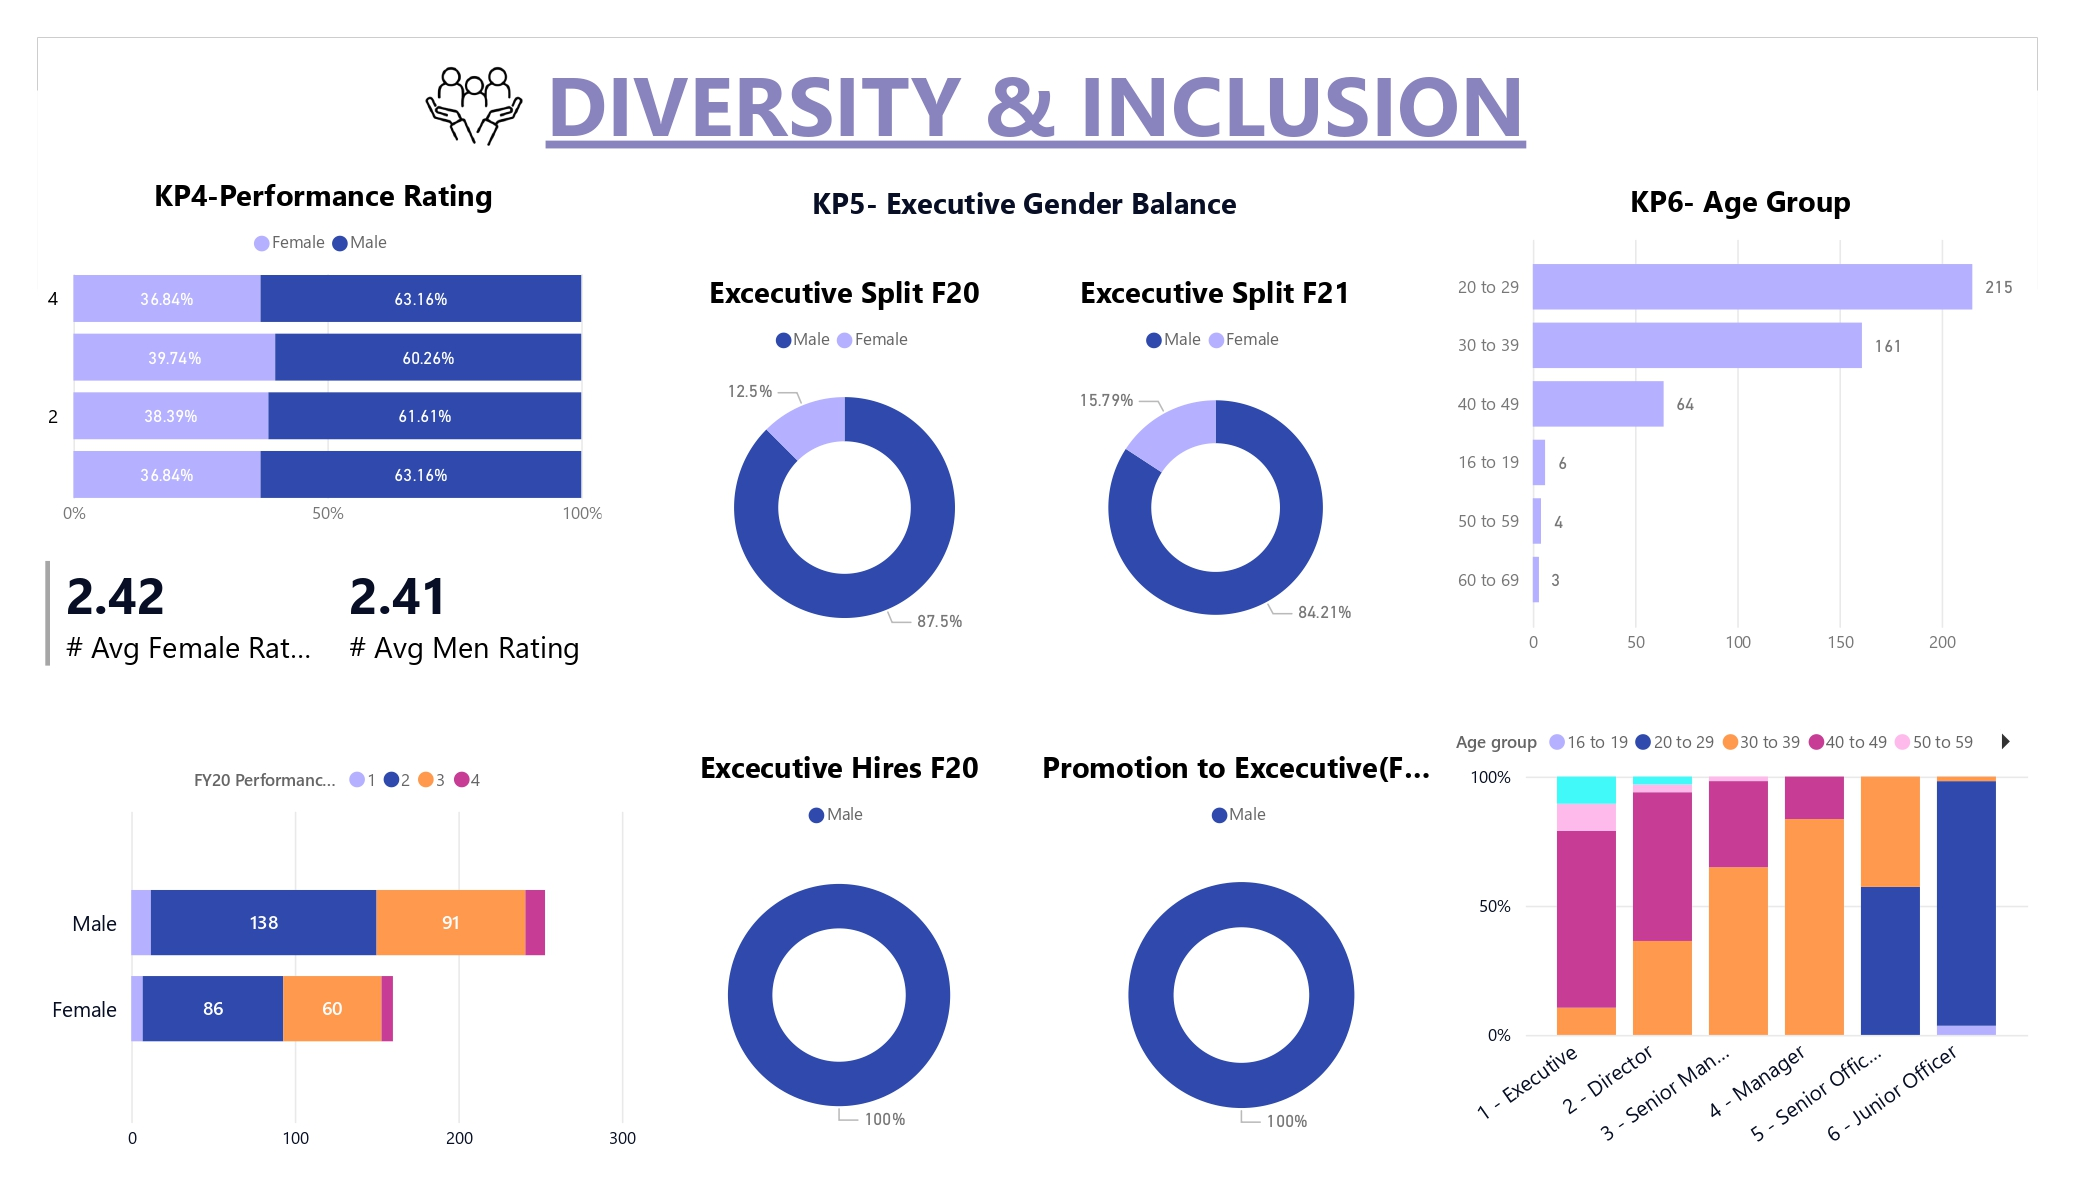

The dashboard page shown, as its layout file describes it:
{"tool":"powerbi","page":{"name":"Page 2","canvas":[1280,720],"ordinal":1},"visuals":[{"type":"hundredPercentStackedBarChart","title":"KP4-Performance Rating","fields":{"Category":["Pharma Group AG.FY20 Performance Rating"],"Y":["CountNonNull(Pharma Group AG.Employee ID)"],"Series":["Pharma Group AG.Gender"]},"box":[0,88.2,365.8,233.5],"z":0},{"type":"barChart","fields":{"Category":["Pharma Group AG.Gender"],"Y":["CountNonNull(Pharma Group AG.Employee ID)"],"Series":["Pharma Group AG.FY20 Performance Rating"]},"box":[0,455.9,387.9,264.7],"z":1000},{"type":"donutChart","title":"Excecutive Split F20","fields":{"Category":["Pharma Group AG.Gender"],"Y":["CountNonNull(Pharma Group AG.Employee ID)"]},"box":[365.4,150.2,302.2,250.5],"z":2000},{"type":"donutChart","title":"Excecutive Split F21","fields":{"Category":["Pharma Group AG.Gender"],"Y":["CountNonNull(Pharma Group AG.Employee ID)"]},"box":[619.9,150,268.4,250.5],"z":3000},{"type":"donutChart","title":"Excecutive Hires F20","fields":{"Category":["Pharma Group AG.Gender"],"Y":["CountNonNull(Pharma Group AG.Employee ID)"]},"box":[386,454,253.7,266.5],"z":4000},{"type":"donutChart","title":"Promotion to Excecutive(FY20)","fields":{"Category":["Pharma Group AG.Gender"],"Y":["CountNonNull(Pharma Group AG.Employee ID)"]},"box":[637.9,454,264.7,266.5],"z":5000},{"type":"clusteredBarChart","title":"KP6- Age Group","fields":{"Category":["Pharma Group AG.Age group"],"Y":["CountNonNull(Pharma Group AG.Employee ID)"]},"box":[900,92,380,312],"z":6000},{"type":"hundredPercentStackedColumnChart","fields":{"Category":["Pharma Group AG.Job Level after FY21 promotions"],"Series":["Pharma Group AG.Age group"],"Y":["CountNonNull(Pharma Group AG.Employee ID)"]},"box":[902.6,432,376.8,288.6],"z":7000},{"type":"multiRowCard","fields":{"Values":["Pharma Group AG.# Avg Female Rating","Pharma Group AG.# Avg Men Rating"]},"box":[0,330,386,116],"z":8000},{"type":"textbox","box":[278.4,0,721.7,87.5],"z":9000},{"type":"textbox","box":[490.8,88.2,299.6,38.6],"z":10000},{"type":"image","box":[222,6,114,76],"z":11000}]}

Visuals, with their boxes in screenshot pixels (x1, y1, x2, y2):
"KP4-Performance Rating" hundredPercentStackedBarChart: {"left": 38, "top": 175, "right": 609, "bottom": 540}
barChart - Pharma Group AG.Gender x CountNonNull(Pharma Group AG.Employee ID): {"left": 38, "top": 750, "right": 644, "bottom": 1162}
"Excecutive Split F20" donutChart: {"left": 608, "top": 272, "right": 1081, "bottom": 664}
"Excecutive Split F21" donutChart: {"left": 1006, "top": 272, "right": 1425, "bottom": 663}
"Excecutive Hires F20" donutChart: {"left": 641, "top": 747, "right": 1037, "bottom": 1162}
"Promotion to Excecutive(FY20)" donutChart: {"left": 1034, "top": 747, "right": 1448, "bottom": 1162}
"KP6- Age Group" clusteredBarChart: {"left": 1444, "top": 181, "right": 2038, "bottom": 669}
hundredPercentStackedColumnChart - Pharma Group AG.Job Level after FY21 promotions x Pharma Group AG.Age group: {"left": 1448, "top": 712, "right": 2037, "bottom": 1162}
multiRowCard - Pharma Group AG.# Avg Female Rating x Pharma Group AG.# Avg Men Rating: {"left": 38, "top": 553, "right": 641, "bottom": 734}
textbox: {"left": 472, "top": 38, "right": 1600, "bottom": 174}
textbox: {"left": 804, "top": 175, "right": 1273, "bottom": 236}
image: {"left": 384, "top": 47, "right": 562, "bottom": 166}
